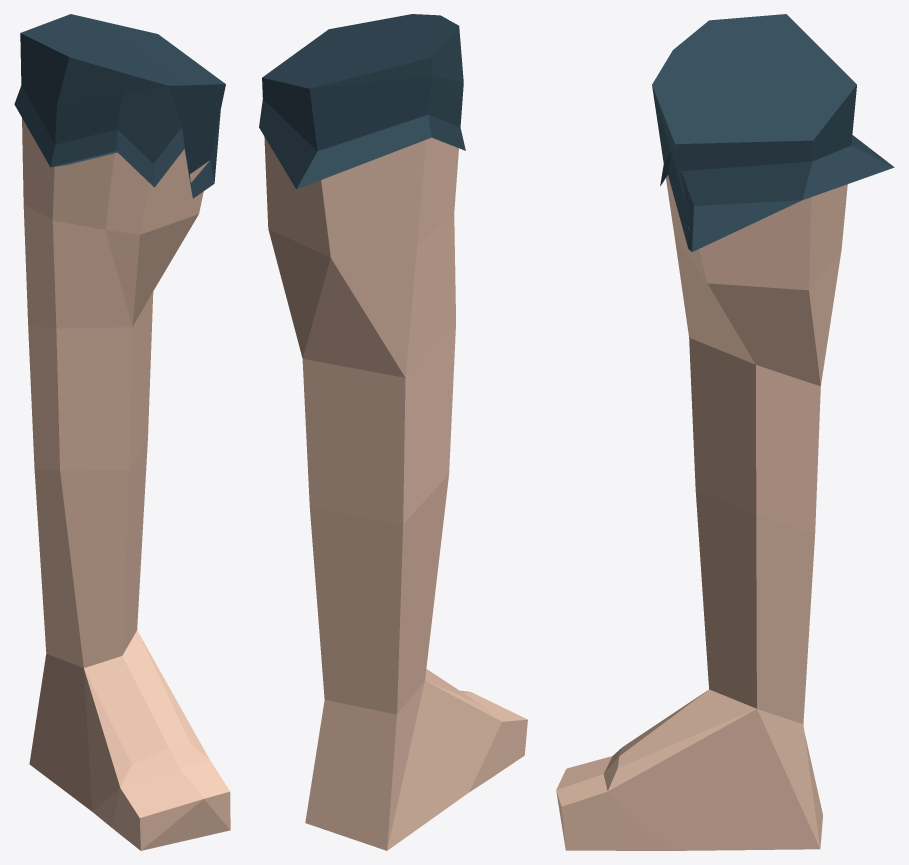
The model's file is ZombieRightLeg.fbx.
3 renders of one model, left to right at view 1: azimuth 30°, elevation 25°; view 2: azimuth 150°, elevation 25°; view 3: azimuth 270°, elevation 25°, orthographic. The views are drawn at different scales.
Parts seen in each view (by area): view 1: polySurface24; view 2: polySurface24; view 3: polySurface24.
Part boxes in pixels (x1,y1,x2,y2): polySurface24: (14, 14, 230, 850); polySurface24: (259, 14, 527, 850); polySurface24: (556, 14, 894, 850).
Size of the model in its own units: 17.96 by 80.14 by 31.23.
